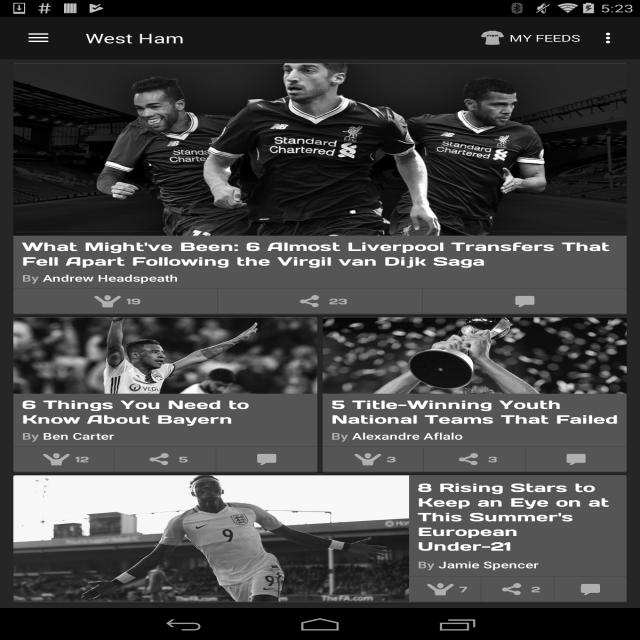ImageButton: (9, 17, 68, 59)
ImageView: (13, 62, 627, 236), (13, 474, 409, 602), (14, 316, 318, 394), (322, 316, 626, 394), (12, 62, 628, 66), (12, 474, 628, 478), (589, 22, 631, 54), (12, 316, 319, 320), (321, 316, 628, 320), (349, 447, 387, 472), (89, 289, 126, 314), (38, 447, 75, 472), (142, 447, 179, 472), (248, 447, 285, 472), (422, 577, 459, 602), (572, 577, 609, 602), (293, 289, 329, 314), (507, 289, 543, 314), (452, 447, 488, 472), (558, 447, 594, 472), (495, 577, 531, 602), (408, 576, 409, 602), (217, 289, 218, 314), (422, 289, 423, 314), (114, 447, 115, 472), (216, 447, 217, 472), (423, 447, 424, 472), (525, 447, 526, 472), (481, 577, 482, 602), (554, 577, 554, 602)
ProgressBar: (294, 133, 346, 165), (140, 339, 191, 371), (449, 339, 500, 371), (186, 522, 237, 554)
TextView: (22, 239, 618, 268), (418, 480, 618, 553), (22, 397, 309, 426), (331, 397, 618, 426), (466, 22, 588, 54), (39, 272, 190, 284), (86, 29, 184, 47), (348, 430, 474, 442), (435, 558, 550, 571), (39, 430, 125, 442), (418, 558, 434, 572), (22, 272, 39, 284), (22, 430, 39, 442), (331, 430, 348, 442), (329, 296, 347, 306), (126, 296, 141, 306), (75, 454, 89, 464), (178, 454, 188, 464), (386, 454, 396, 464), (488, 454, 497, 464), (531, 584, 540, 594), (459, 584, 467, 594)
